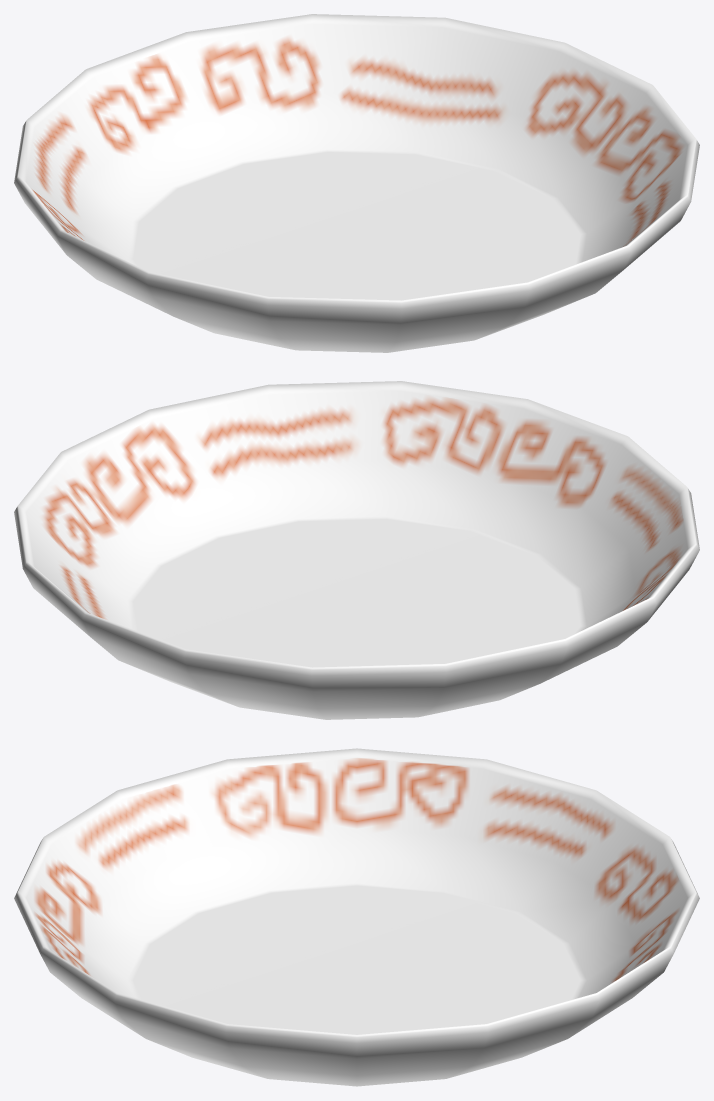
Rendered from Dish.glb.
3 views of the same model, one above another, from view 1: azimuth 30°, elevation 25°; view 2: azimuth 150°, elevation 25°; view 3: azimuth 270°, elevation 25° (orthographic).
Parts seen in each view (by area): view 1: Circle; view 2: Circle; view 3: Circle.
Part boxes in pixels (x1,y1,x2,y2): Circle: (14, 14, 699, 352); Circle: (14, 381, 699, 719); Circle: (14, 748, 699, 1086).
Bounding box in the file's own units: 0.8523 × 0.1329 × 0.8523.
Materials: 1 (1 with a texture image).
